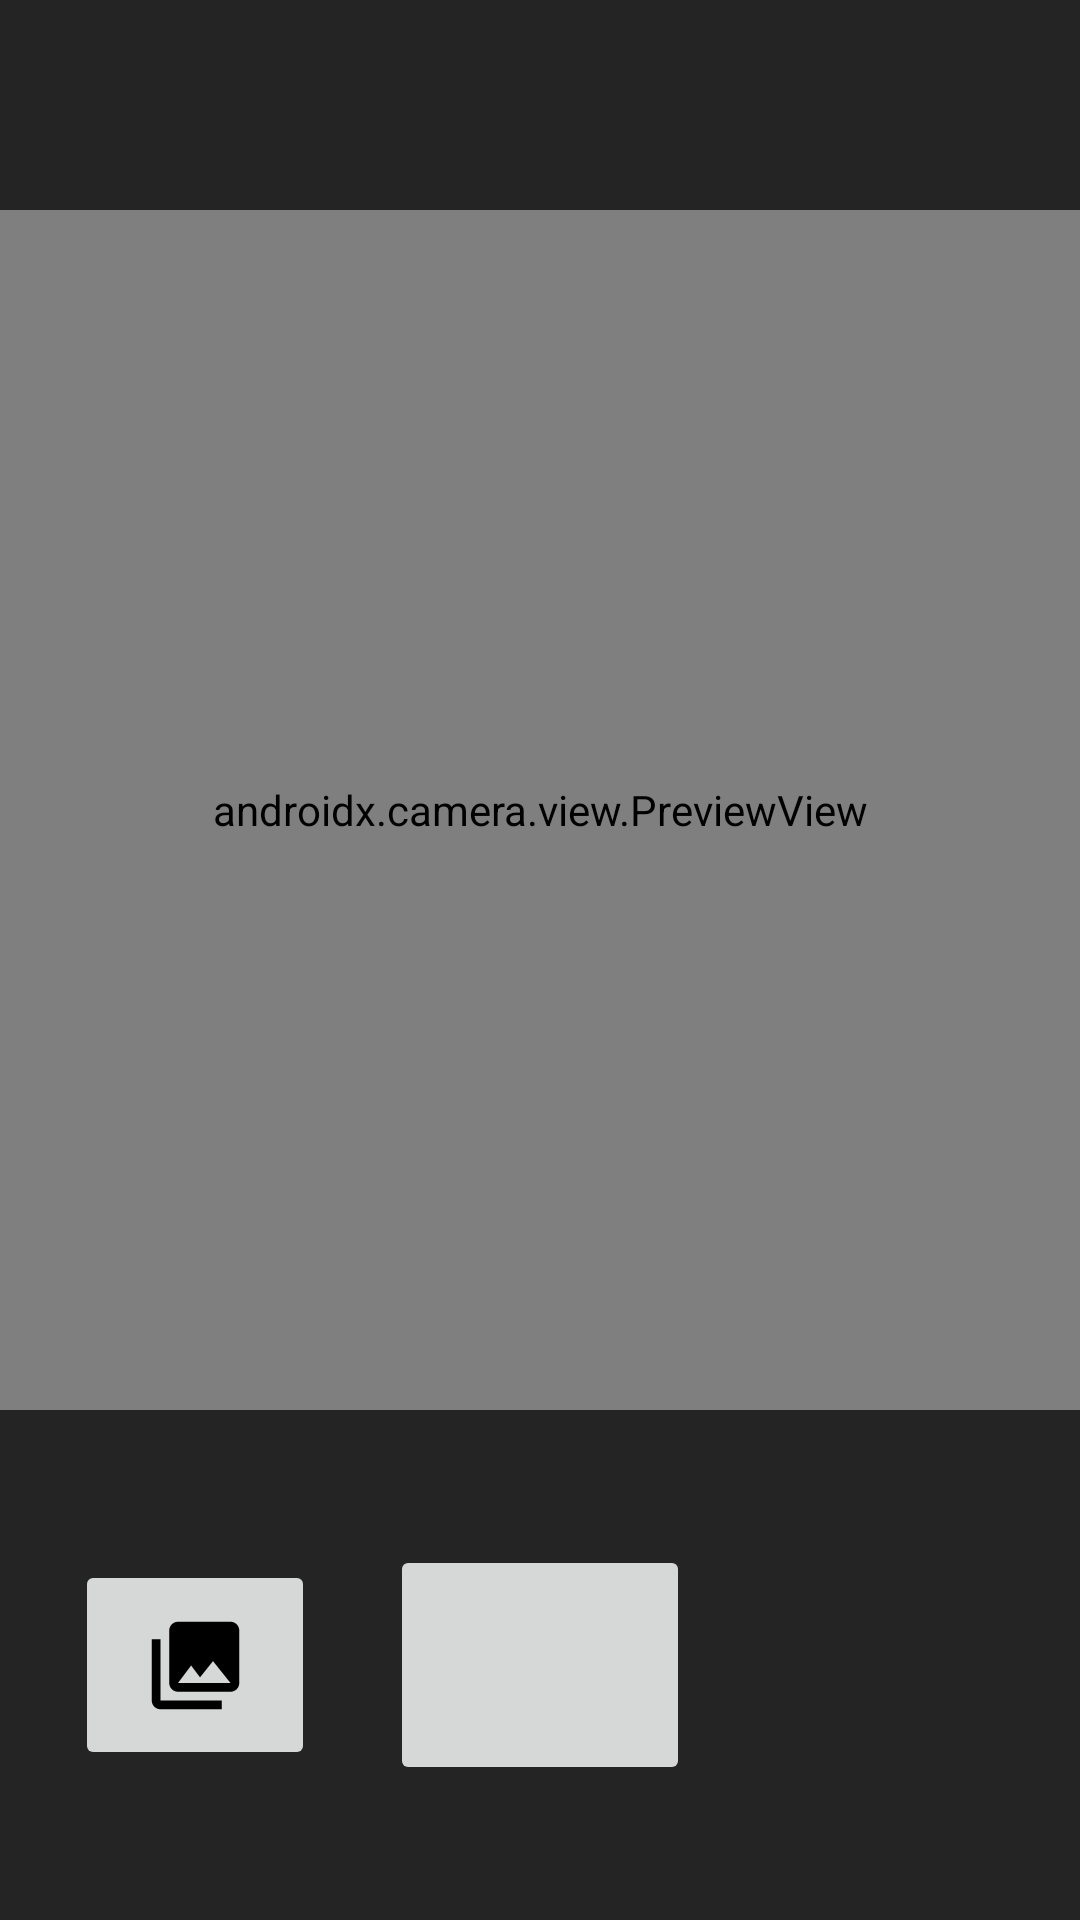

Screen size 1080w x 1920h. Icon name, then its center in pixels as point (x, y):
photo library: point (195, 1665)
